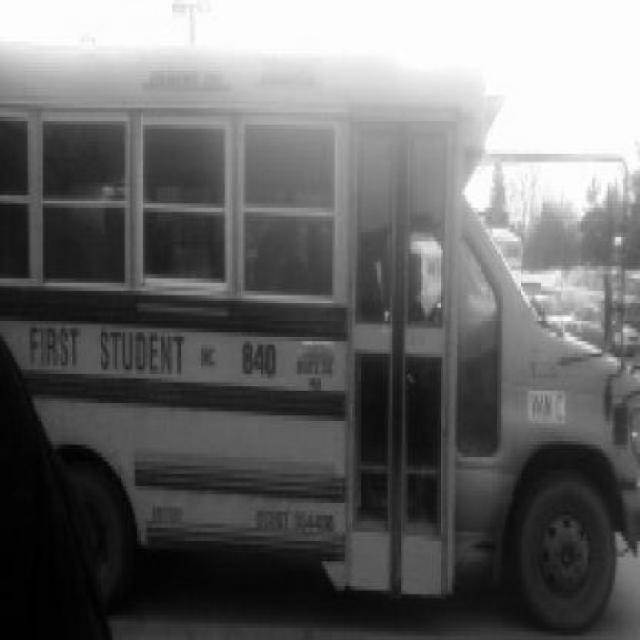Bus- Small: (0, 43, 640, 634)
